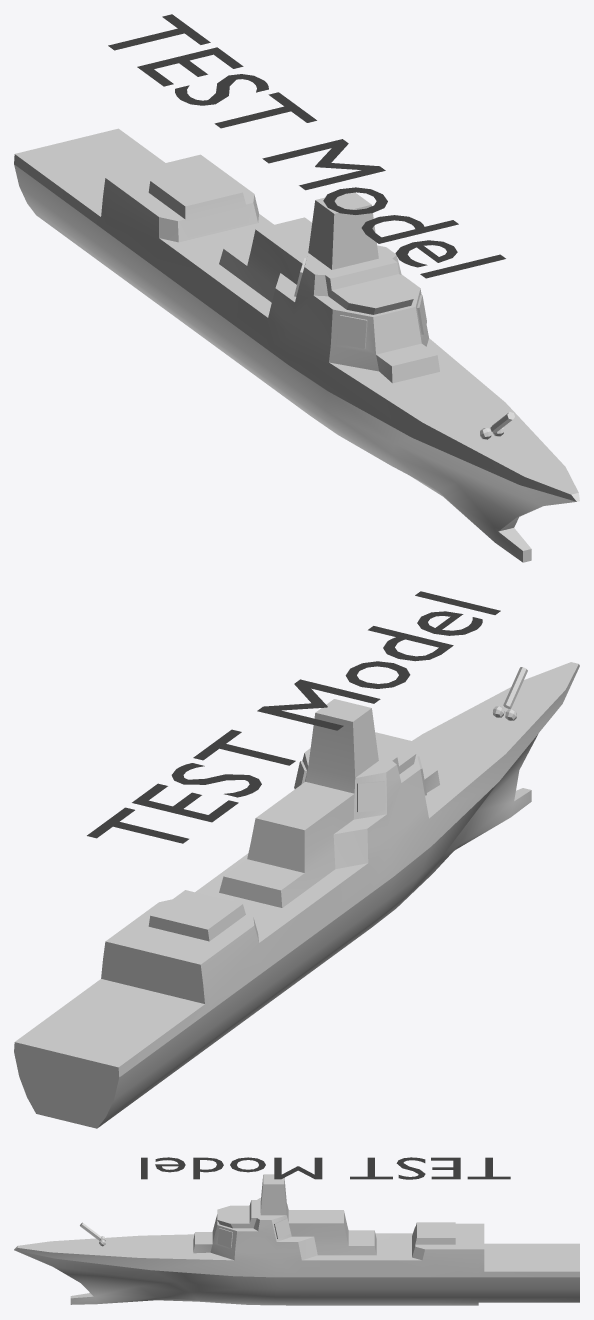
File: TestShip.fbx
3 renders of one model, top to bottom at view 1: azimuth 30°, elevation 25°; view 2: azimuth 150°, elevation 25°; view 3: azimuth 270°, elevation 25°, orthographic. The views are drawn at different scales.
Parts seen in each view (by area): view 1: Text, Destroyer; view 2: Text, Destroyer; view 3: Text, Destroyer.
Part boxes in pixels (x1=…): Text: x1=14, y1=128, x2=579, y2=562; Destroyer: x1=108, y1=14, x2=505, y2=278; Text: x1=14, y1=662, x2=579, y2=1128; Destroyer: x1=87, y1=591, x2=500, y2=843; Text: x1=14, y1=1174, x2=579, y2=1305; Destroyer: x1=141, y1=1157, x2=510, y2=1179.
Bounding box in the file's own units: 365 × 814 × 3074.
2 materials, 1 textured.
